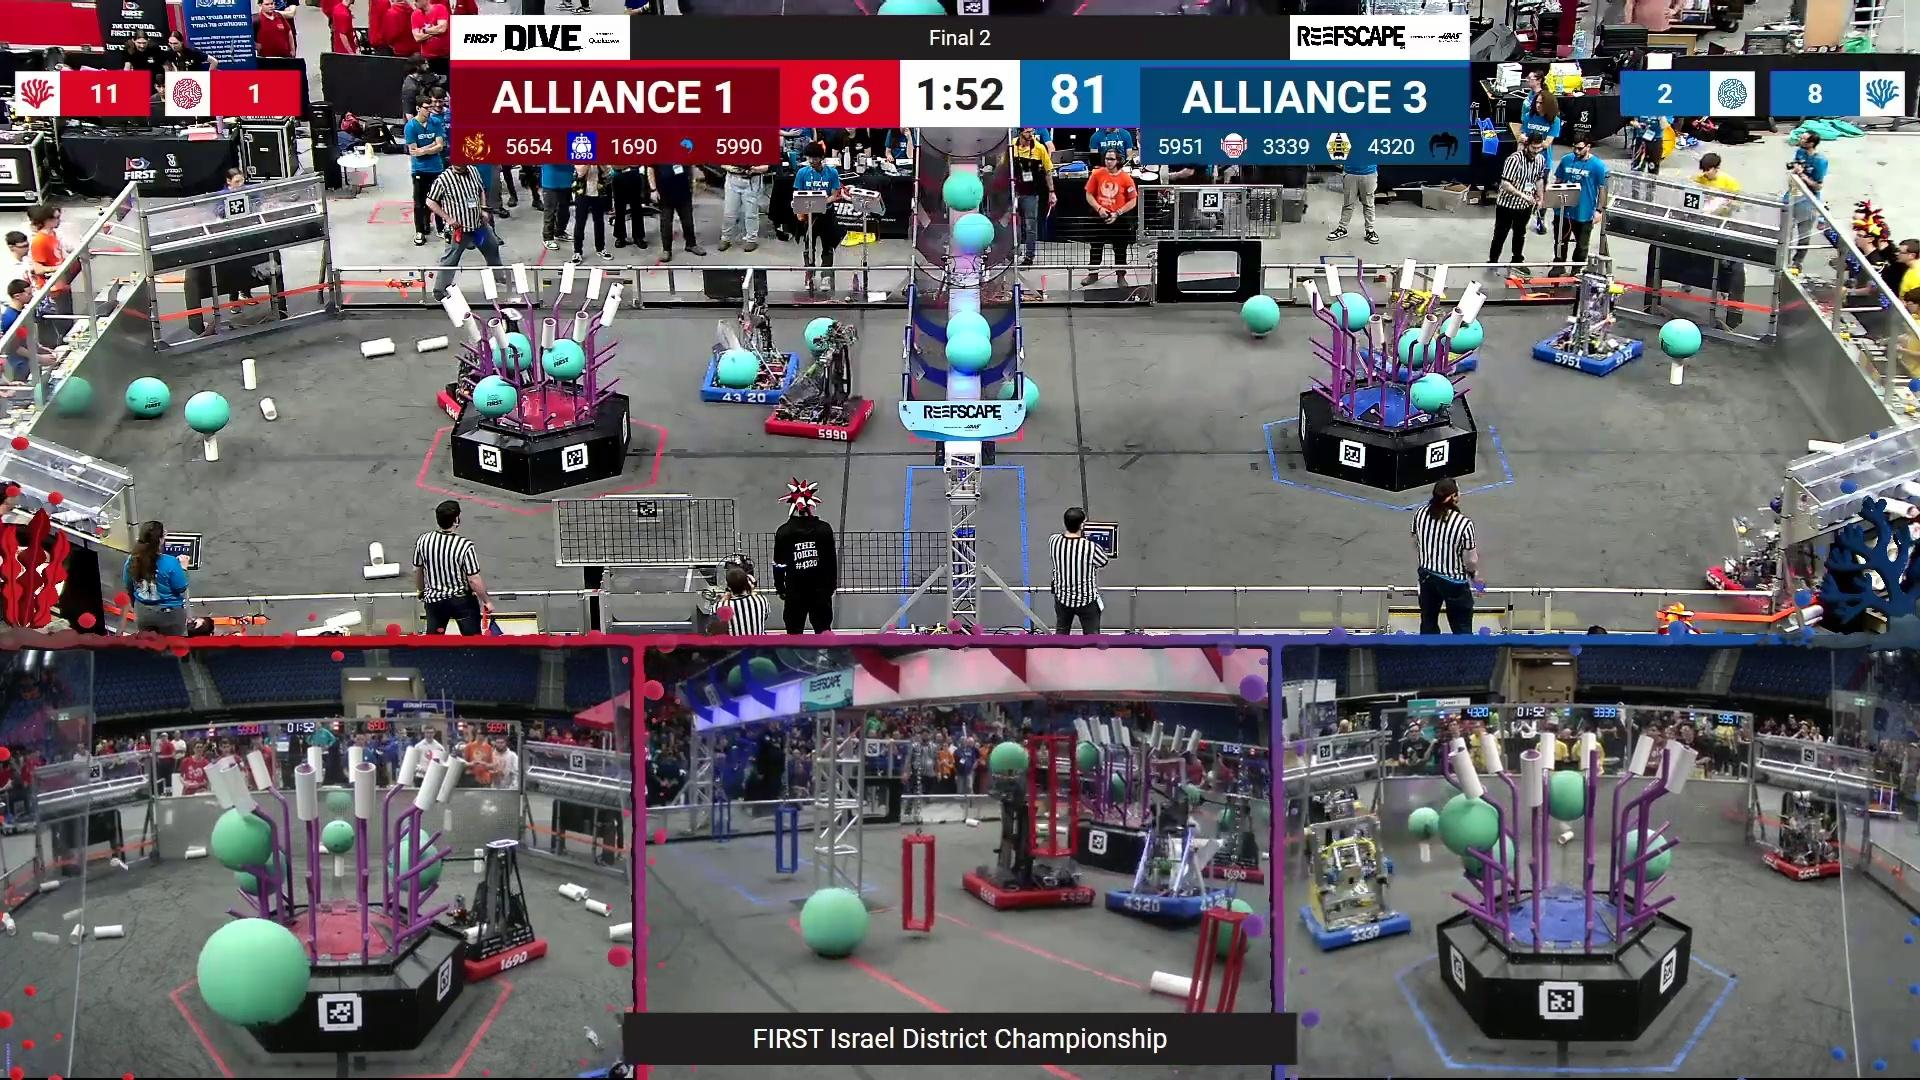robot: (961, 769, 1096, 910), (1104, 783, 1232, 926), (1706, 465, 1830, 603), (426, 840, 546, 977), (1296, 814, 1411, 955), (699, 268, 806, 406), (764, 316, 874, 444), (1354, 273, 1477, 384), (1531, 256, 1643, 376), (436, 315, 530, 418), (1760, 789, 1841, 882), (1192, 793, 1266, 886)
